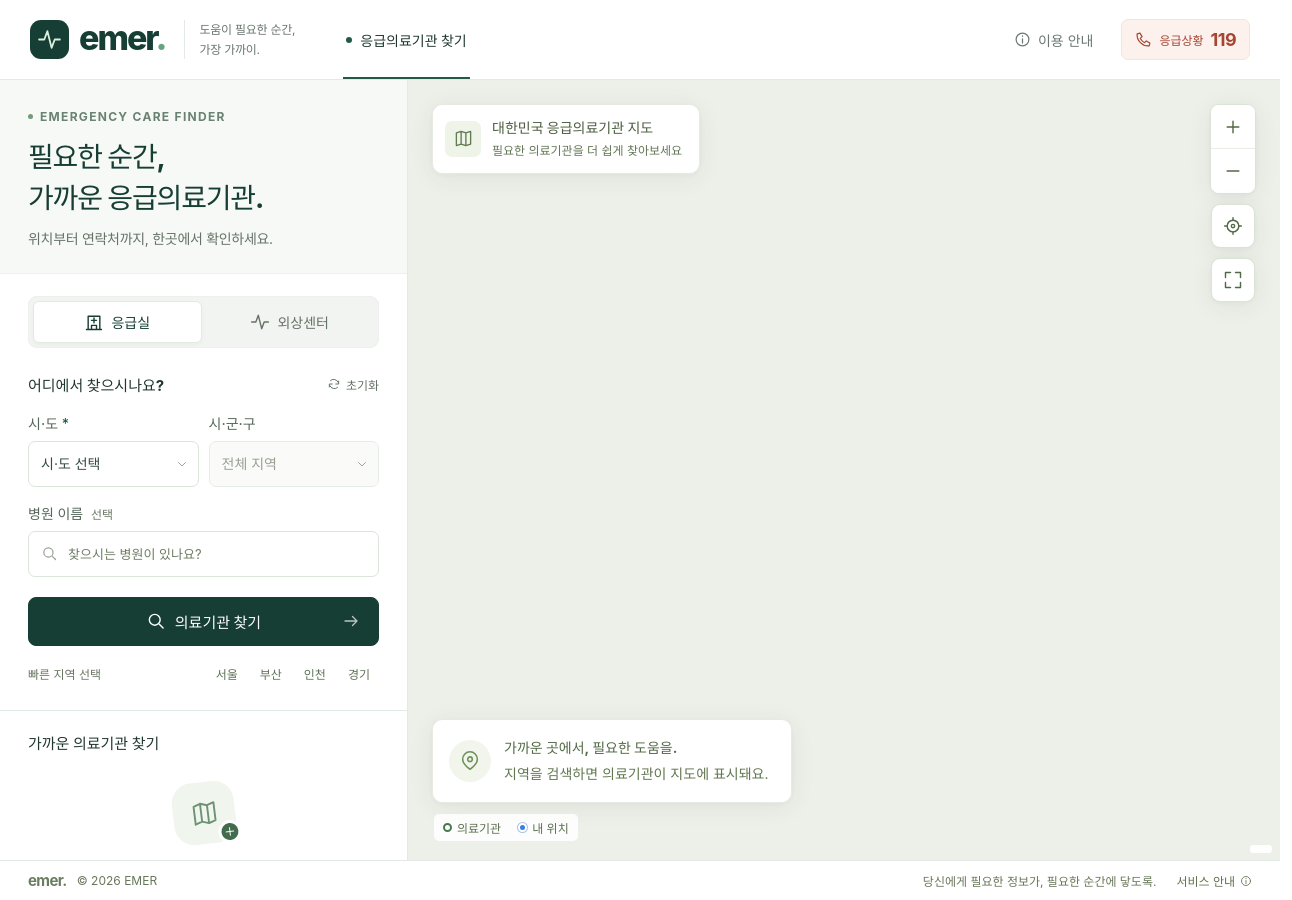
Test: keeps failed searches distinct from empty results and supports retry and reset
This screenshot has width=1292, height=900.
Click the button "서울" at [227, 674], box [207,658,247,690]
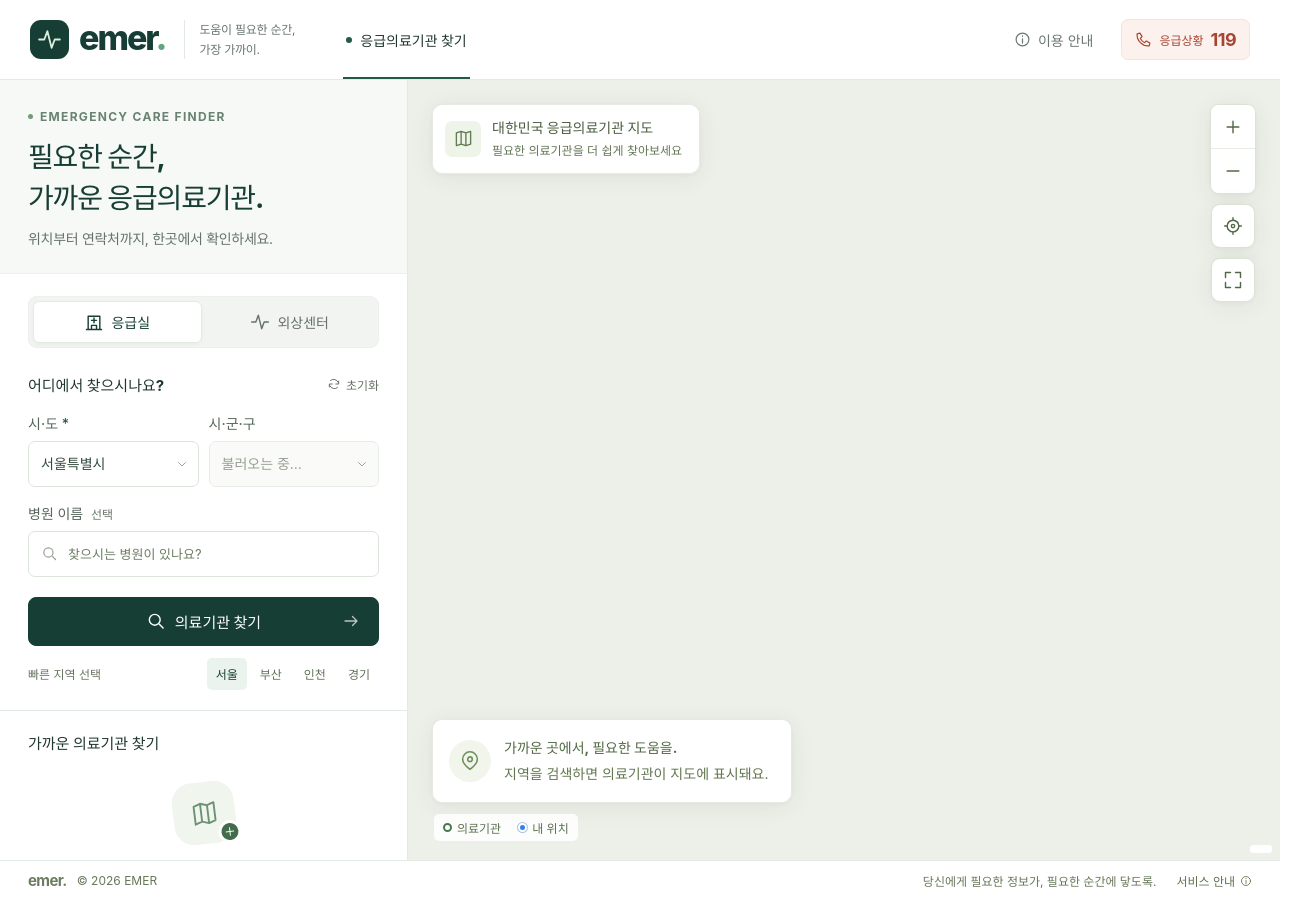
Submit the form named "의료기관 검색", box [0,274,407,710]
(page scrolled)
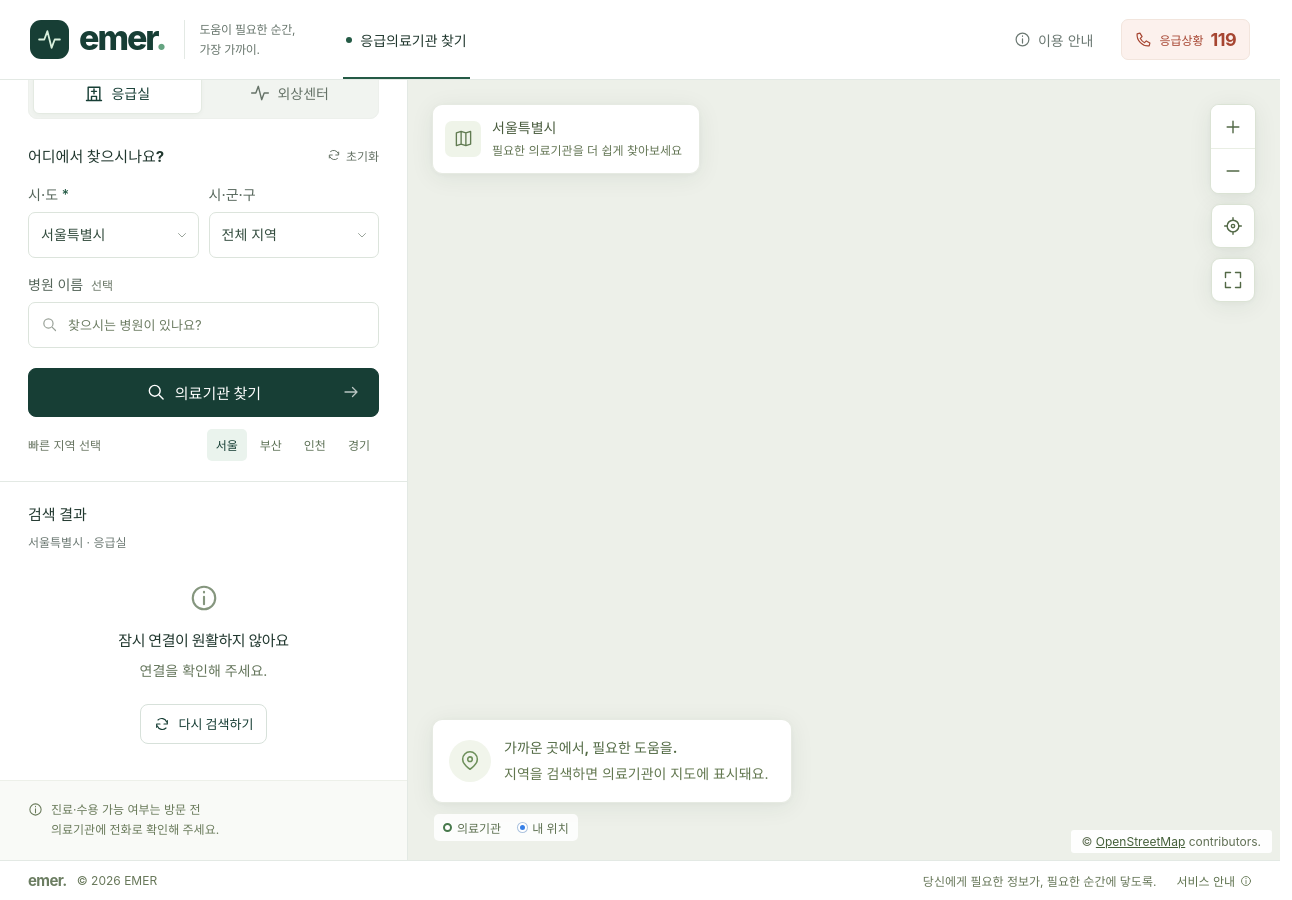
Expected: the text "검색된 의료기관이 없어요" is not shown
Expected: the heading "잠시 연결이 원활하지 않아요" is shown, [118,631,289,650]
Click the button "다시 검색하기" at [204, 724], box [140,704,267,744]
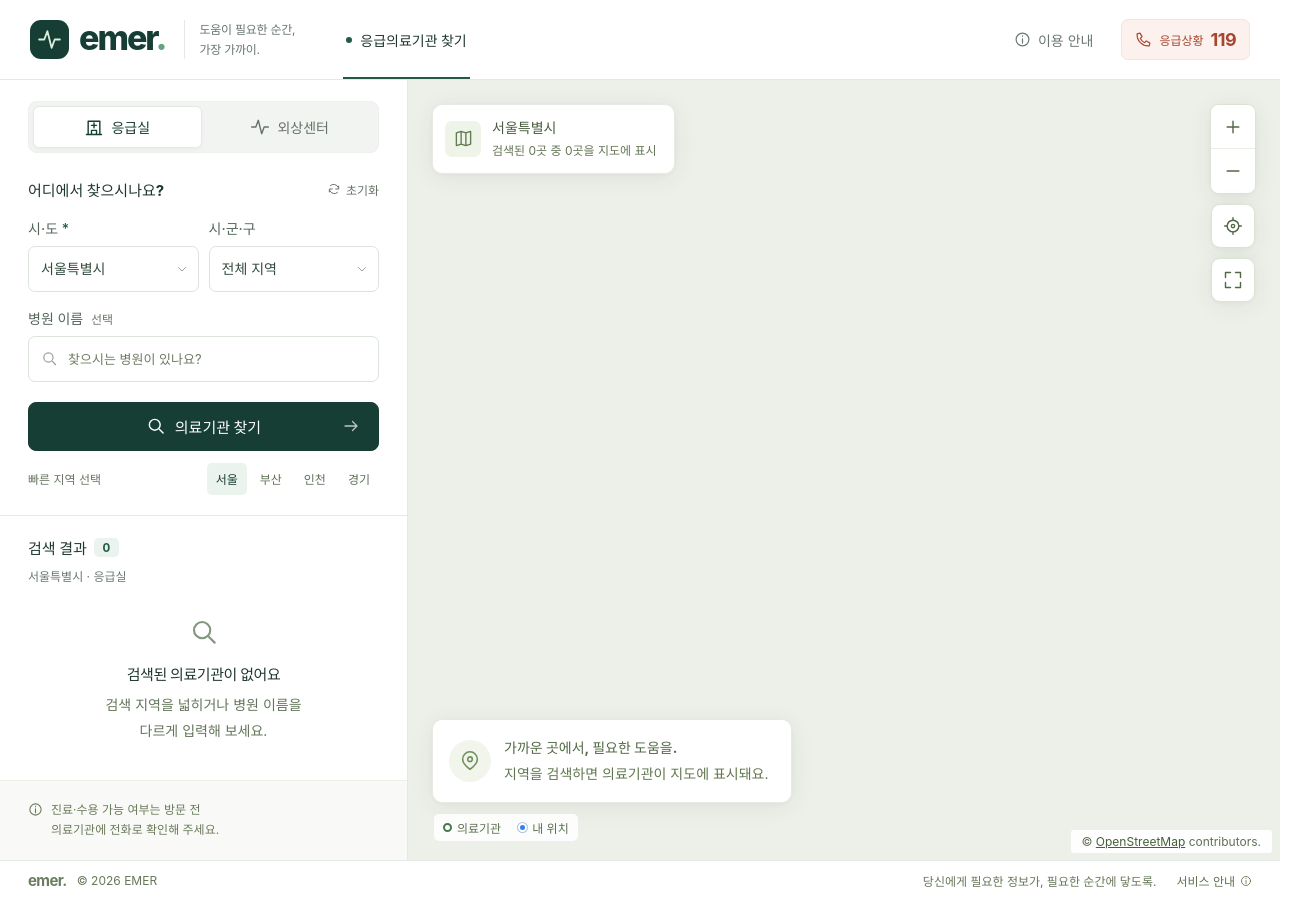
Expected: the heading "검색된 의료기관이 없어요" is shown, [127,665,280,684]
Click the button "초기화" at [353, 189], box [327,177,379,202]
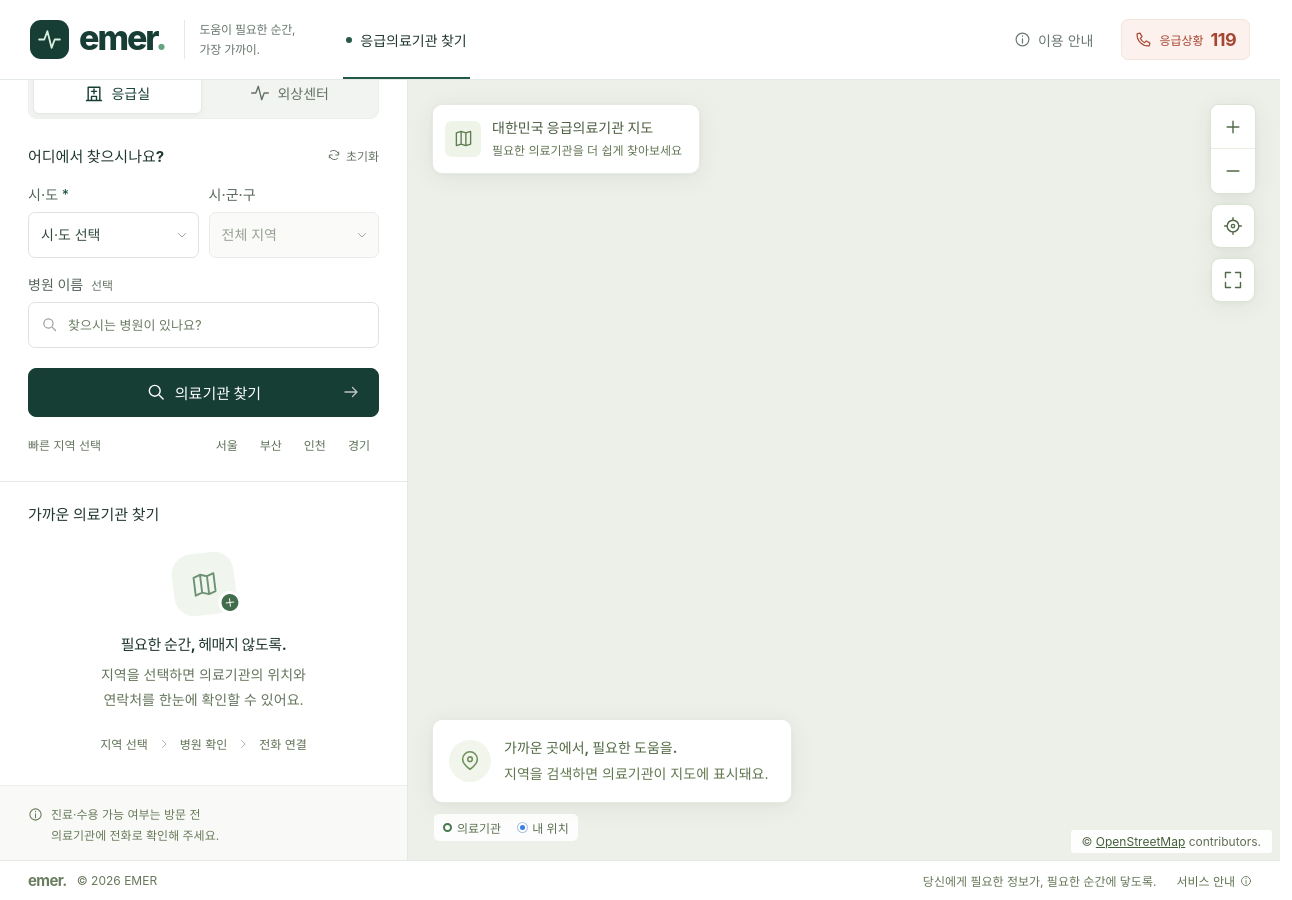
Expected: the dropdown labelled "시·도 *" shows "시·도 선택", [28,212,198,258]
Expected: the heading "필요한 순간, 헤매지 않도록." is shown, [121,635,286,654]
